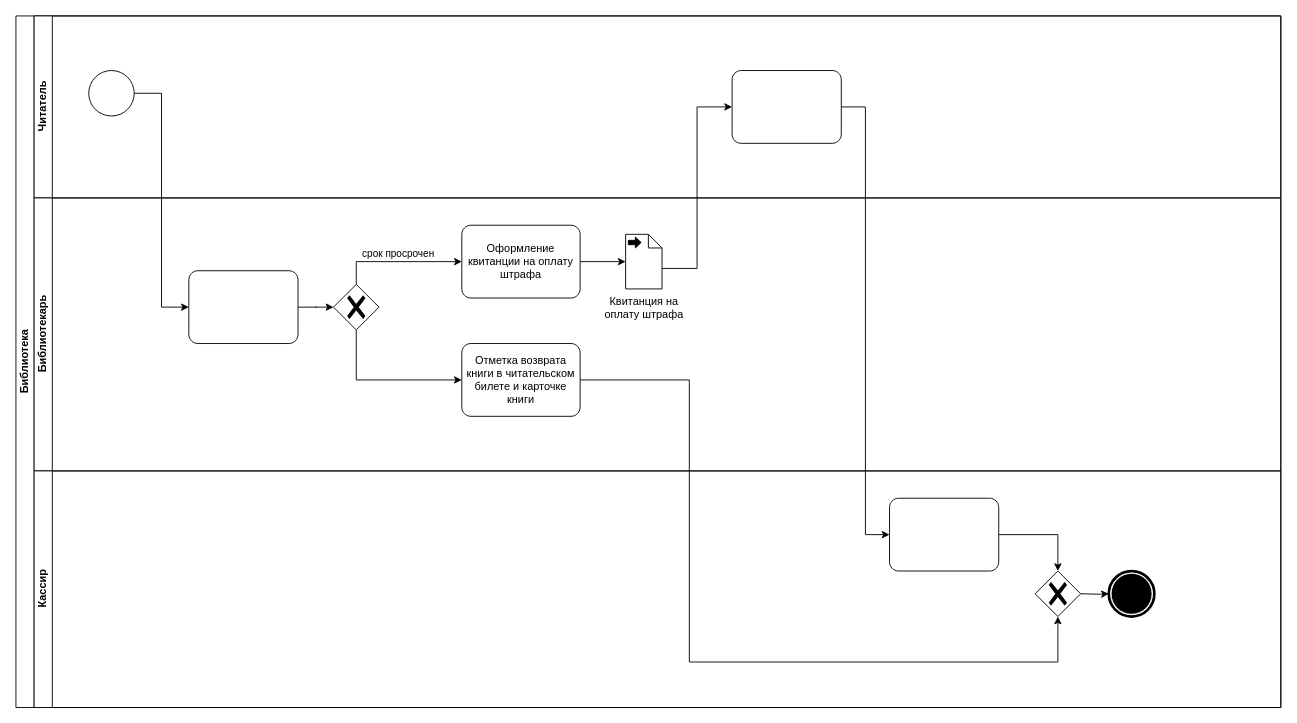
The diagram is 1297 pixels wide and 723 high, and some of its shapes have lost their labels. The centre of each missing label's shape, as x and y in pixels:
Возврат книг: (111,93)
Оплата штрафа: (786,106)
Приём оплаты по квитанции, выдача чека: (944,534)
Проверка срока возврата каждой книги: (243,307)
